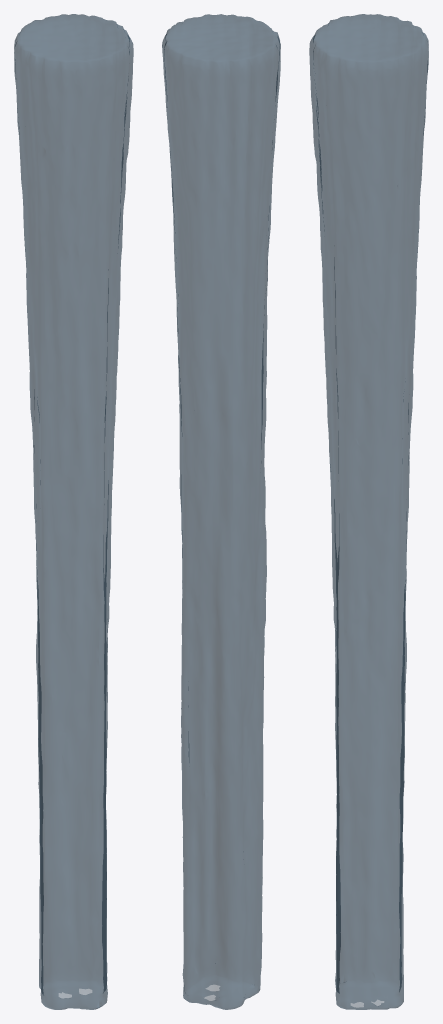
File: water_2.dae
3 renders of one model, left to right at view 1: azimuth 90°, elevation 25°; view 2: azimuth 150°, elevation 25°; view 3: azimuth 270°, elevation 25°, orthographic.
Visible parts, largest first — view 1: Water_stream_001; view 2: Water_stream_001; view 3: Water_stream_001.
Boxes of the visible parts, x1,y1,x2,y2 form: Water_stream_001: [14, 14, 133, 1009]; Water_stream_001: [162, 14, 280, 1009]; Water_stream_001: [309, 14, 428, 1009].
Bounding box in the file's own units: 0.0635 × 0.0638 × 0.5675.
